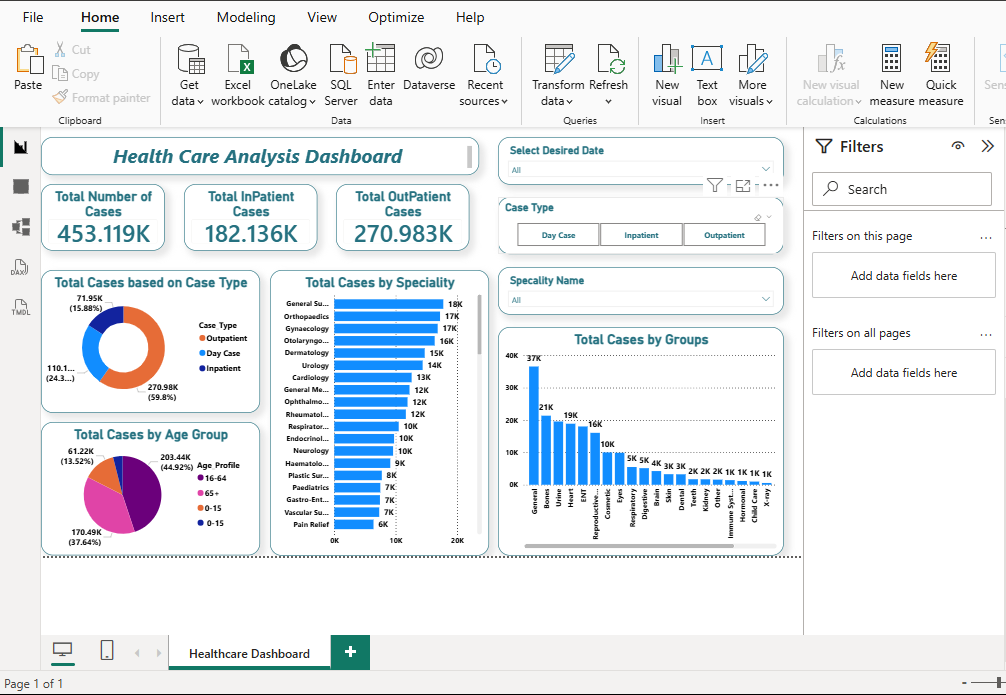

Layout of this report page (visuals, bound fields, positions):
{"tool":"powerbi","page":{"name":"Healthcare Dashboard","canvas":[1280,720],"ordinal":0},"visuals":[{"type":"cardVisual","title":"Total Number of Cases","fields":{"Data":["CountNonNull(All Data.Source.Name)"]},"box":[0,96,208,112],"z":0},{"type":"cardVisual","title":"Total InPatient Cases","fields":{"Data":["CountNonNull(All Data.Source.Name)"]},"box":[240,96,224,112],"z":1},{"type":"cardVisual","title":"Total OutPatient Cases","fields":{"Data":["CountNonNull(All Data.Source.Name)"]},"box":[496,96,224,112],"z":2},{"type":"slicer","fields":{"Values":["All Data.Archive_Date"]},"box":[768,16,480,80],"z":3},{"type":"slicer","title":"Case Type","fields":{"Values":["All Data.Case_Type"]},"box":[768,117.3,480,96],"z":4},{"type":"slicer","fields":{"Values":["All Data.Speciality_Name"]},"box":[768,234.7,480,80],"z":5},{"type":"donutChart","title":"Total Cases based on Case Type","fields":{"Category":["All Data.Case_Type"],"Y":["CountNonNull(All Data.Source.Name)"]},"box":[0,240,368,240],"z":6},{"type":"clusteredBarChart","title":"Total Cases by Speciality","fields":{"Category":["All Data.Speciality_Name"],"Y":["CountNonNull(All Data.Source.Name)"]},"box":[384,240,368,480],"z":7},{"type":"clusteredColumnChart","title":"Total Cases by Groups","fields":{"Category":["Mapping_Specialty.Specialty Group"],"Y":["CountNonNull(All Data.Source.Name)"]},"box":[768,336,480,384],"z":8},{"type":"pieChart","title":"Total Cases by Age Group","fields":{"Category":["All Data.Age_Profile"],"Y":["CountNonNull(All Data.Source.Name)"]},"box":[0,496,368,224],"z":9},{"type":"textbox","box":[0,16,736,64],"z":10}]}

Visuals, with their boxes on the page's 1280x720 design canvas (x1, y1, x2, y2). These are canvas units, not pixel positions in the 1006x695 screenshot, which may show the page scaled, cropped or inside an application window:
"Total Number of Cases" cardVisual: left=0, top=96, right=208, bottom=208
"Total InPatient Cases" cardVisual: left=240, top=96, right=464, bottom=208
"Total OutPatient Cases" cardVisual: left=496, top=96, right=720, bottom=208
slicer - All Data.Archive_Date: left=768, top=16, right=1248, bottom=96
"Case Type" slicer: left=768, top=117, right=1248, bottom=213
slicer - All Data.Speciality_Name: left=768, top=235, right=1248, bottom=315
"Total Cases based on Case Type" donutChart: left=0, top=240, right=368, bottom=480
"Total Cases by Speciality" clusteredBarChart: left=384, top=240, right=752, bottom=720
"Total Cases by Groups" clusteredColumnChart: left=768, top=336, right=1248, bottom=720
"Total Cases by Age Group" pieChart: left=0, top=496, right=368, bottom=720
textbox: left=0, top=16, right=736, bottom=80
